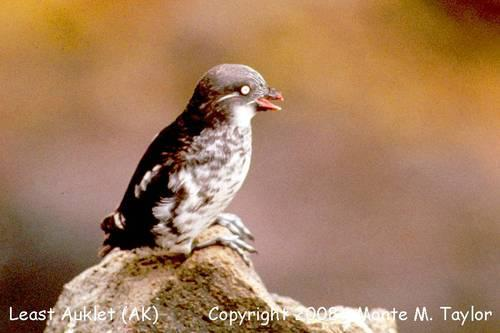006.Least_Auklet: (99, 64, 284, 269)
